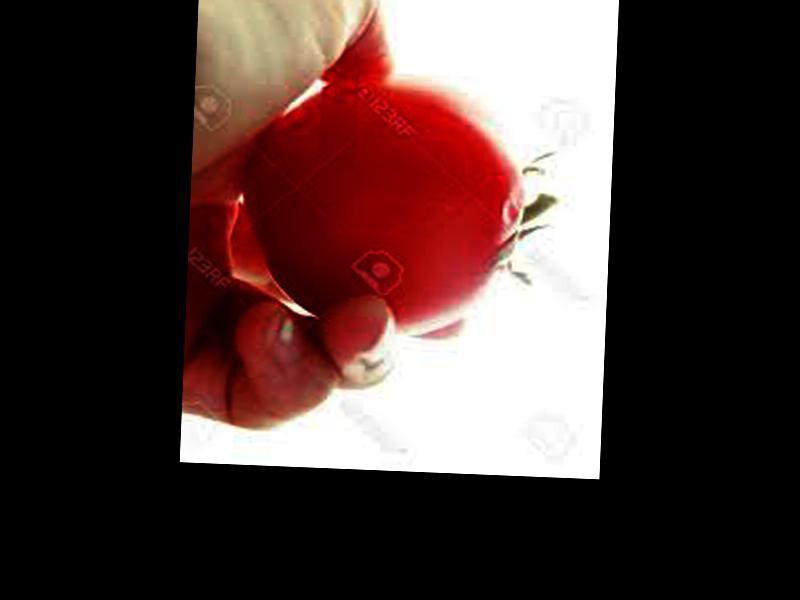Tomato: (242, 72, 532, 342)
